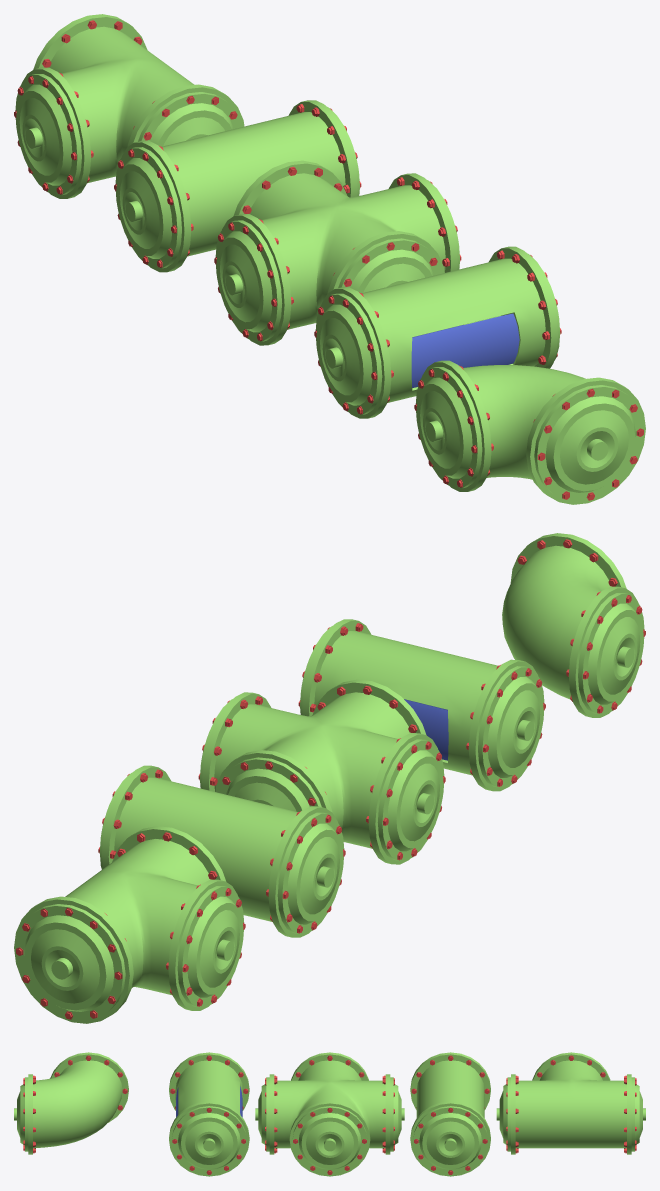
Rendered from SteamPipe.fbx.
3 views of the same model, one above another, from view 1: azimuth 30°, elevation 25°; view 2: azimuth 150°, elevation 25°; view 3: azimuth 270°, elevation 25° (orthographic). The views are drawn at different scales.
Visible parts, largest first — view 1: pipe3, pipe2, pipe4, pipe1, pipe6, pipe5.018, pipe5.004, pipe5.014, pipe5.022, pipe5.002, pipe5.016, pipe2.002 (+3 smaller); view 2: pipe3, pipe4, pipe1, pipe2, pipe6, pipe5.024, pipe5.004, pipe5.002, pipe5.016, pipe5.014, pipe5.022, pipe5.008 (+2 smaller); view 3: pipe4, pipe3, pipe6, pipe1, pipe2, pipe5.006, pipe5, pipe5.012, pipe5.024, pipe5.018, pipe5.008, pipe5.010 (+8 smaller).
Part boxes in pixels (<box>): pipe3: <box>222,160,457,345</box>; pipe2: <box>322,246,557,418</box>; pipe4: <box>21,14,244,198</box>; pipe1: <box>122,100,357,272</box>; pipe6: <box>422,360,645,504</box>; pipe5.018: <box>534,385,644,502</box>; pipe5.004: <box>215,220,282,341</box>; pipe5.014: <box>315,293,382,415</box>; pipe5.022: <box>15,74,81,195</box>; pipe5.002: <box>115,147,181,268</box>; pipe5.016: <box>415,367,482,488</box>; pipe2.002: <box>411,313,519,387</box>; pipe3: <box>202,679,437,864</box>; pipe4: <box>14,826,237,1023</box>; pipe1: <box>102,765,337,937</box>; pipe2: <box>302,619,537,791</box>; pipe6: <box>502,533,638,717</box>; pipe5.024: <box>15,904,125,1021</box>; pipe5.004: <box>377,739,444,860</box>; pipe5.002: <box>277,812,344,934</box>; pipe5.016: <box>578,593,644,714</box>; pipe5.014: <box>478,666,544,787</box>; pipe5.022: <box>177,886,244,1007</box>; pipe5.008: <box>217,757,321,811</box>; pipe4: <box>511,1052,631,1154</box>; pipe3: <box>269,1052,390,1176</box>; pipe6: <box>28,1052,128,1154</box>; pipe1: <box>410,1052,490,1176</box>; pipe2: <box>169,1052,249,1176</box>; pipe5.006: <box>292,1106,367,1175</box>; pipe5: <box>413,1106,487,1175</box>; pipe5.012: <box>172,1106,246,1175</box>; pipe5.024: <box>631,1077,645,1151</box>; pipe5.018: <box>14,1077,28,1151</box>; pipe5.008: <box>390,1077,404,1151</box>; pipe5.010: <box>255,1077,269,1151</box>.
Size of the model in its own units: 1.24 by 0.6687 by 5.24.
